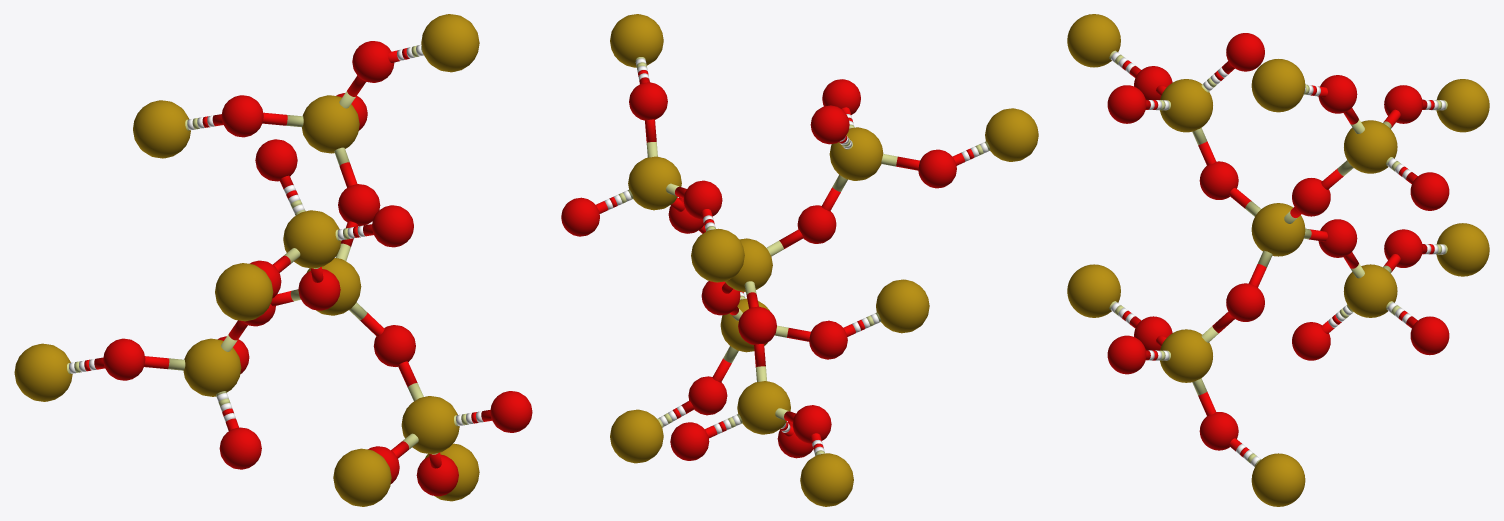
Rendered from 3D_Quartz.fbx.
3 views of the same model, side by side, from view 1: azimuth 30°, elevation 25°; view 2: azimuth 150°, elevation 25°; view 3: azimuth 270°, elevation 25° (orthographic). The views are drawn at different scales.
Visible parts, largest first — view 1: Shape_IndexedFaceSet; view 2: Shape_IndexedFaceSet; view 3: Shape_IndexedFaceSet.
Boxes of the visible parts, bbox=[...] form: Shape_IndexedFaceSet: bbox=[14, 14, 532, 506]; Shape_IndexedFaceSet: bbox=[561, 14, 1038, 506]; Shape_IndexedFaceSet: bbox=[1067, 14, 1489, 506].
Size of the model in its own units: 7411 by 9543 by 8255.
